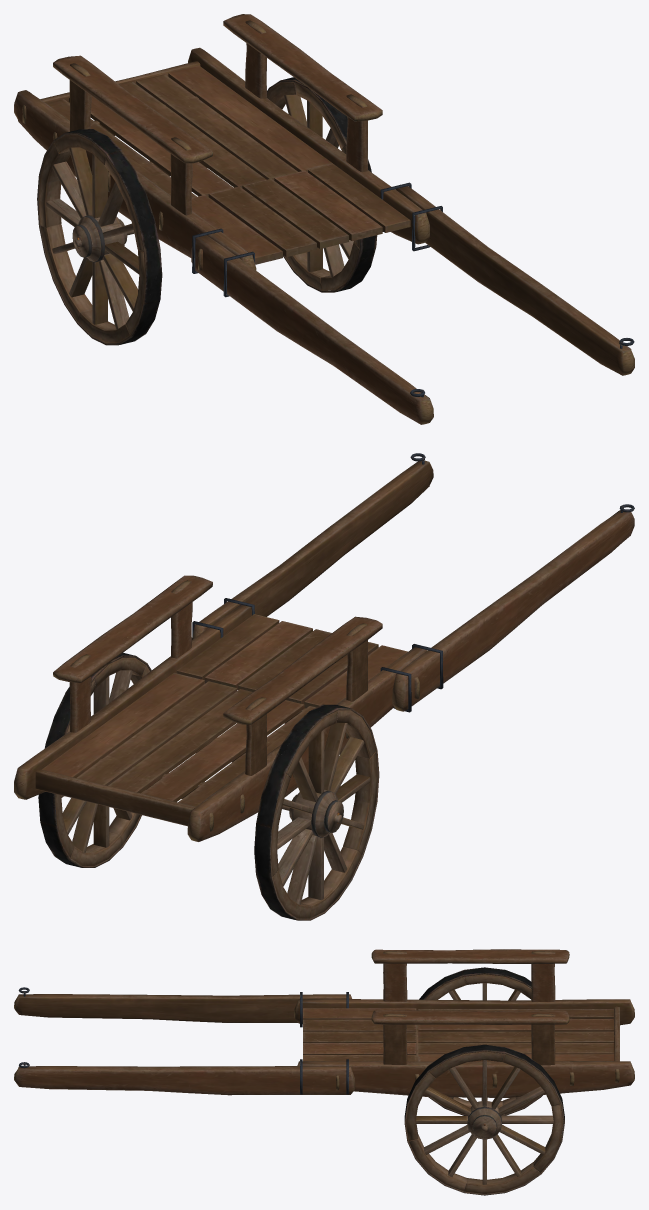
The model's file is cart.glb.
The picture shows the model from 3 angles, top to bottom: view 1: azimuth 30°, elevation 25°; view 2: azimuth 150°, elevation 25°; view 3: azimuth 270°, elevation 25°; orthographic projection. The views are drawn at different scales.
Visible parts, largest first — view 1: SM_Cart01a_M_Cart01a_0, SM_Cart02a_M_Cart02a_0; view 2: SM_Cart01a_M_Cart01a_0, SM_Cart02a_M_Cart02a_0; view 3: SM_Cart01a_M_Cart01a_0, SM_Cart02a_M_Cart02a_0.
Boxes of the visible parts, left/top/right/bottom form: SM_Cart01a_M_Cart01a_0: left=14, top=14, right=634, bottom=424; SM_Cart02a_M_Cart02a_0: left=37, top=77, right=377, bottom=345; SM_Cart01a_M_Cart01a_0: left=14, top=453, right=634, bottom=841; SM_Cart02a_M_Cart02a_0: left=38, top=652, right=379, bottom=920; SM_Cart01a_M_Cart01a_0: left=14, top=949, right=634, bottom=1097; SM_Cart02a_M_Cart02a_0: left=404, top=967, right=564, bottom=1195.
Size of the model in its own units: 1.42 by 1.2 by 3.95.
2 materials, 2 textured.
